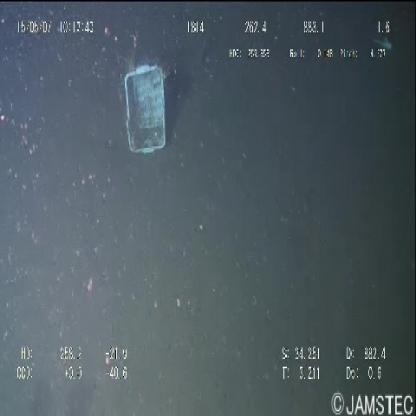Rác: (116, 51, 174, 168)
